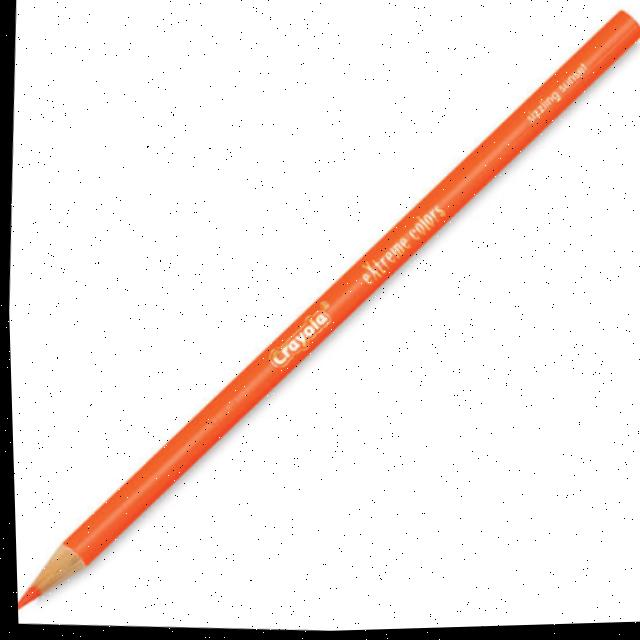pencil: (14, 3, 640, 622)
